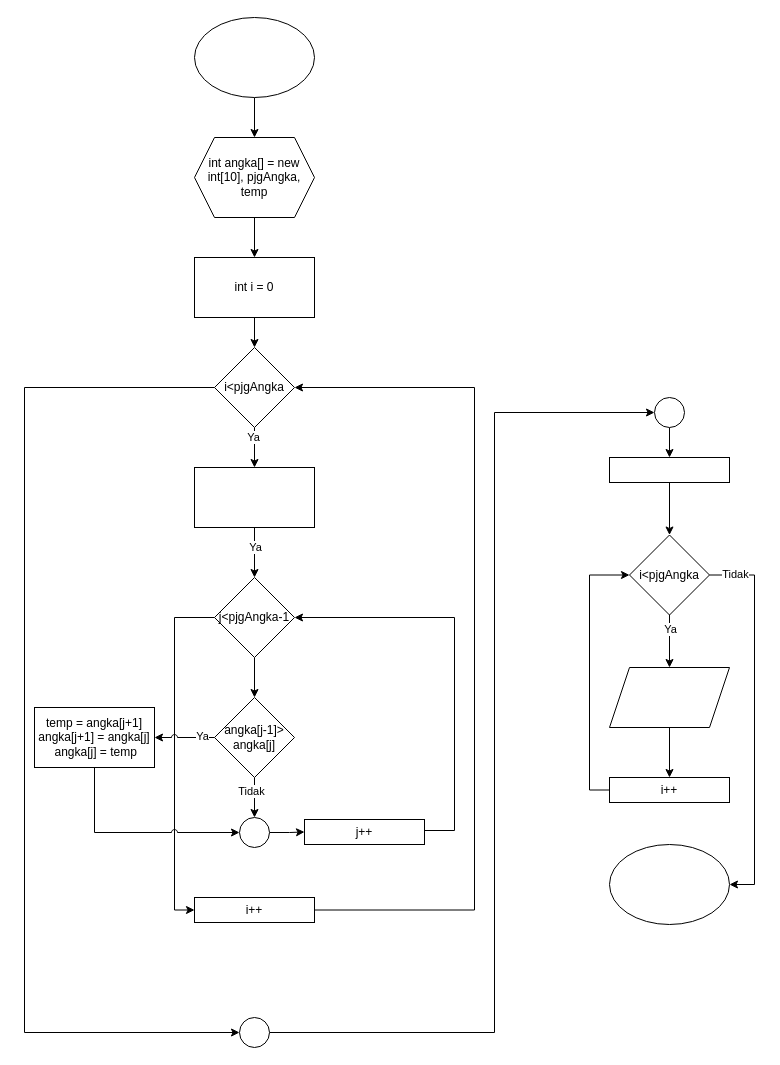
Some shapes in this 780 by 1065 pixel diagram are drawn without their labels. The shapes that lost their labels are listed below. From the top down, each one's centre as x and y in pixels, then its label:
pixel 254 57: Start
pixel 669 469: i=0
pixel 254 497: int j = 1
pixel 669 697: Print angka[i]
pixel 669 884: End
